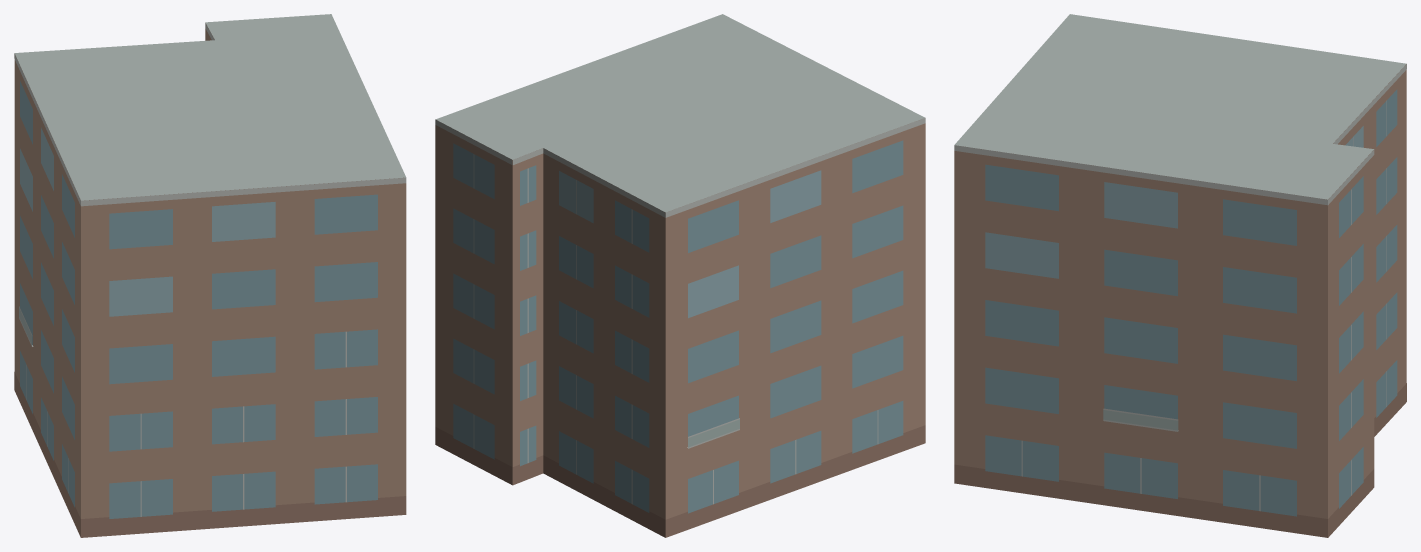
Rendered from survey-upis-32894274.glb.
3 renders of one model, left to right at view 1: azimuth 30°, elevation 25°; view 2: azimuth 150°, elevation 25°; view 3: azimuth 270°, elevation 25°, orthographic. The views are drawn at different scales.
Parts seen in each view (by area): view 1: survey-upis-32894274.tmp; view 2: survey-upis-32894274.tmp; view 3: survey-upis-32894274.tmp.
Part boxes in pixels (x1,y1,x2,y2): survey-upis-32894274.tmp: (14, 14, 406, 537); survey-upis-32894274.tmp: (435, 14, 925, 537); survey-upis-32894274.tmp: (954, 14, 1406, 537).
Bounding box in the file's own units: 17.13 × 14.55 × 17.65.
